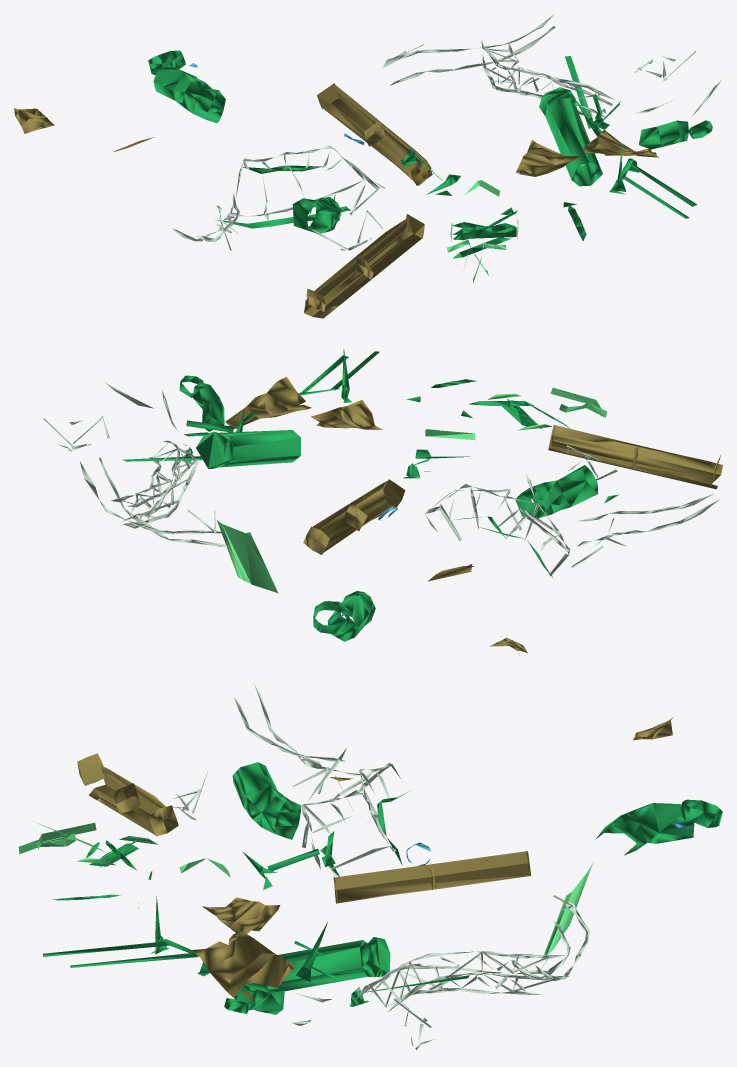
The model's file is debris_b_lod4.glb.
3 renders of one model, top to bottom at view 1: azimuth 30°, elevation 25°; view 2: azimuth 150°, elevation 25°; view 3: azimuth 270°, elevation 25°, orthographic. The views are drawn at different scales.
Bounding box in the file's own units: 32.9 × 4.61 × 28.89.
